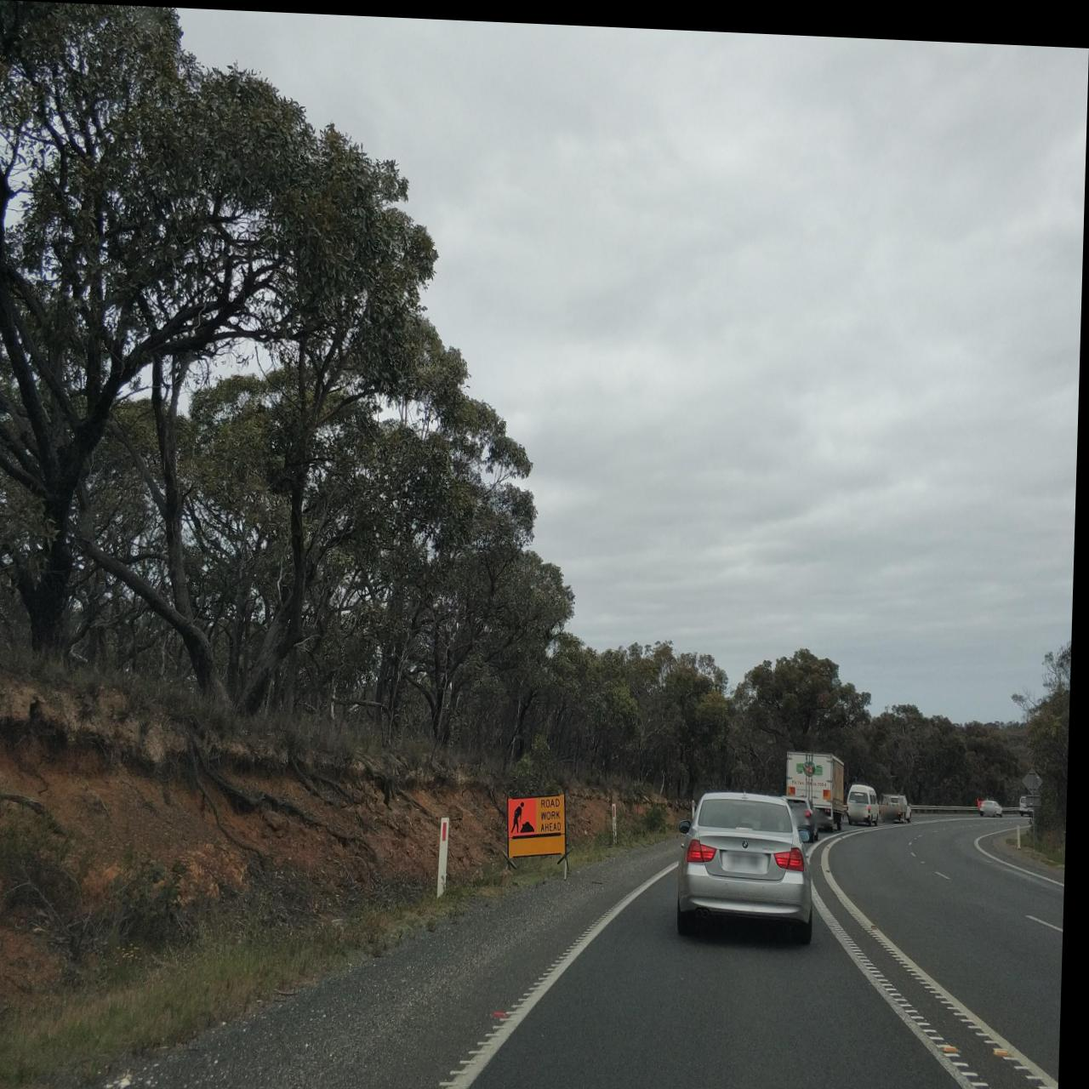bus: (787, 739, 853, 821)
